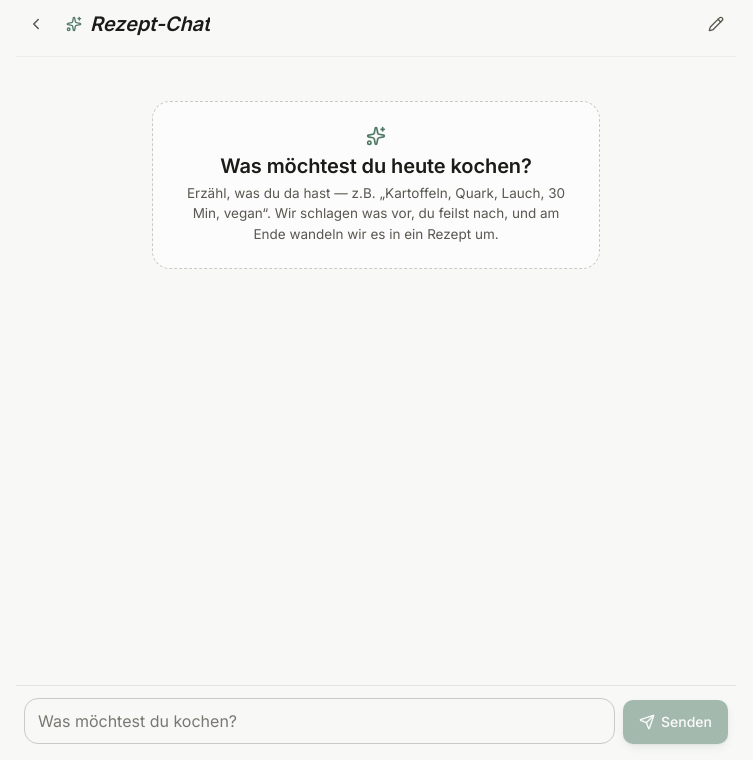
Scenario: <ChatPage /> — abort + retry › Erneut versuchen drops the errored bubble and re-submits the same content
This screenshot has width=753, height=760.
(page scrolled)
In the text box named "Nachricht": {"x": 320, "y": 721} 24,698 -> 615,744, type "Erneut"
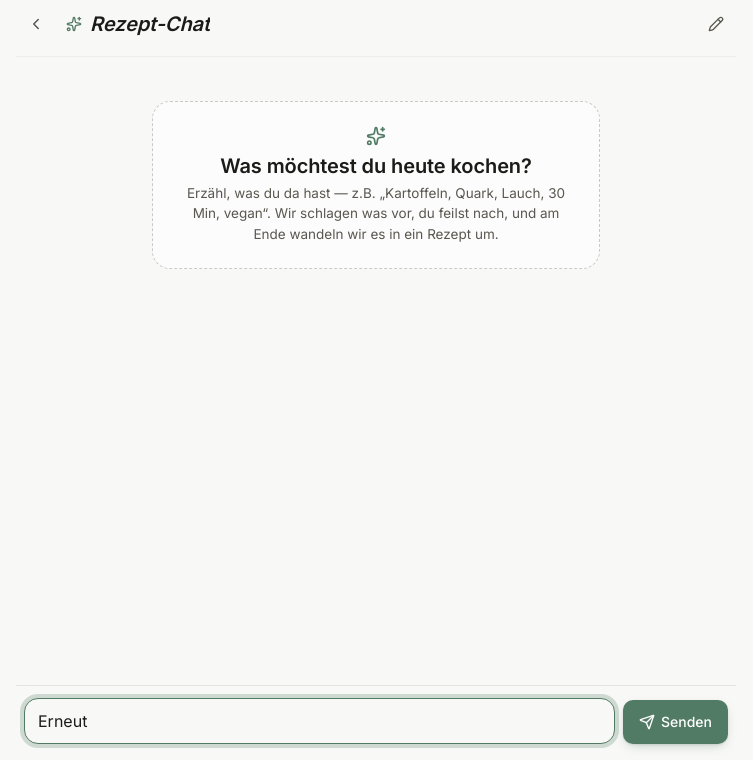
Click the button "Senden": {"x": 676, "y": 722} 623,700 -> 728,744
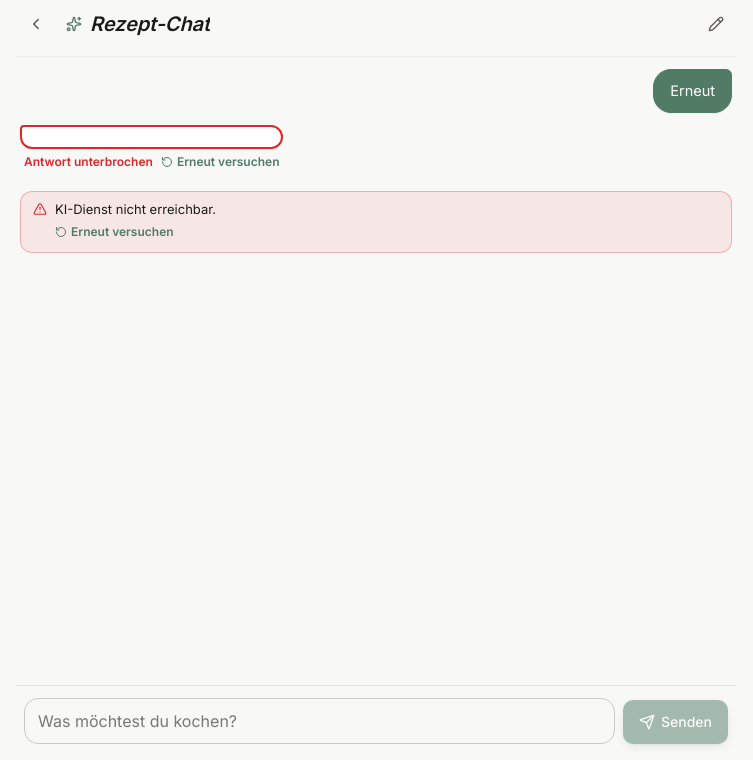
expect the message "KI-Dienst nicht erreichbar. Erneut versuchen" is shown: met, box 20,191 -> 732,253
Click the button "Erneut versuchen" next to "Antwort unterbrochen": {"x": 220, "y": 162} 161,153 -> 280,171
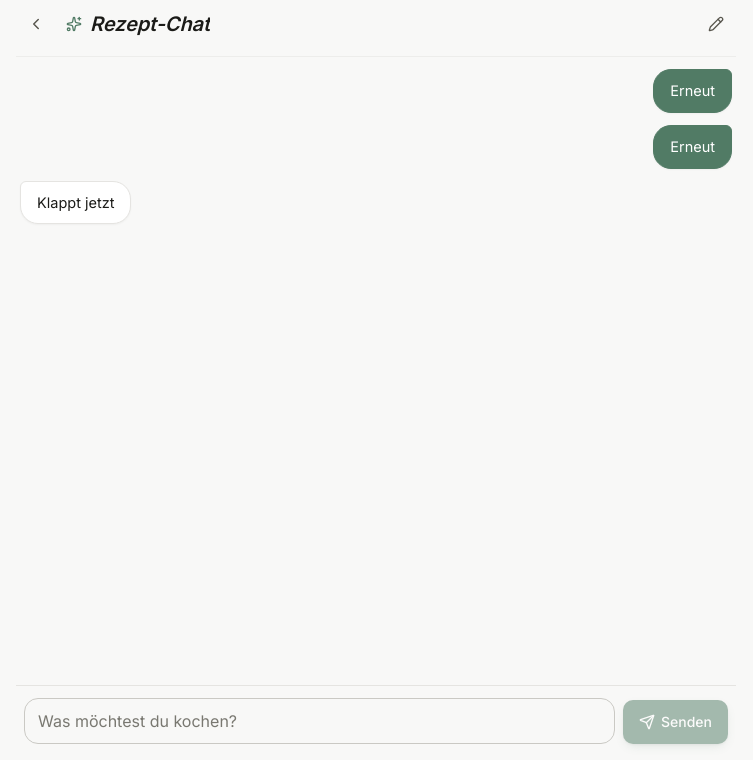
expect the text "Klappt jetzt" is shown: met, box 37,192 -> 114,213
expect the text "Antwort unterbrochen" is gone: met
